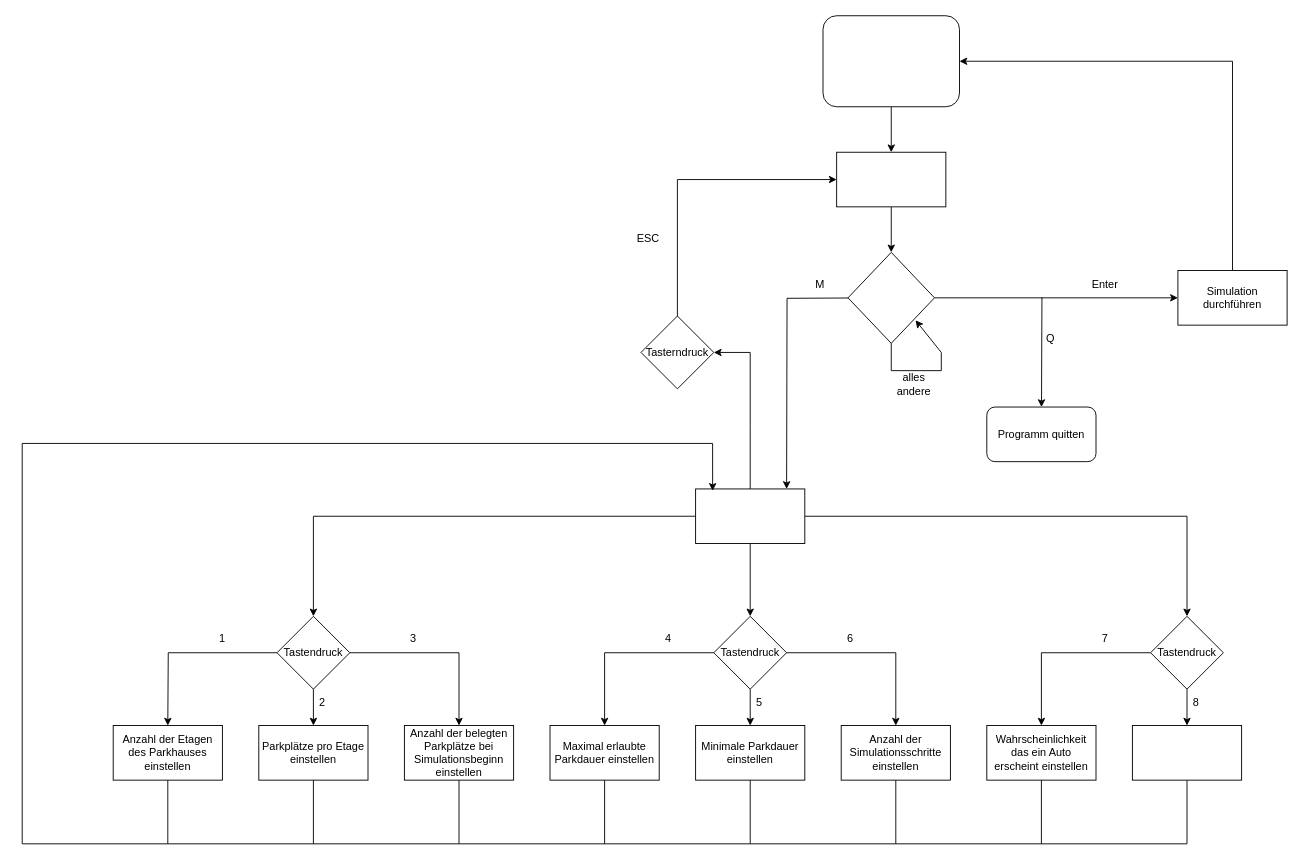
Some shapes in this 1303 by 867 pixel diagram are drawn without their labels. The shapes that lost their labels are listed below. From the top down, each one's box as (x1, y1, x2, y2) in pixels, then its label:
(822, 15, 960, 107): Letzte Simulation geendet/ Programm gerade gestartet
(836, 151, 946, 207): Willkommenstext
(847, 251, 934, 343): User drückt Tasten
(695, 488, 805, 544): Config Menü rendern
(1131, 725, 1242, 780): Seed angeben
